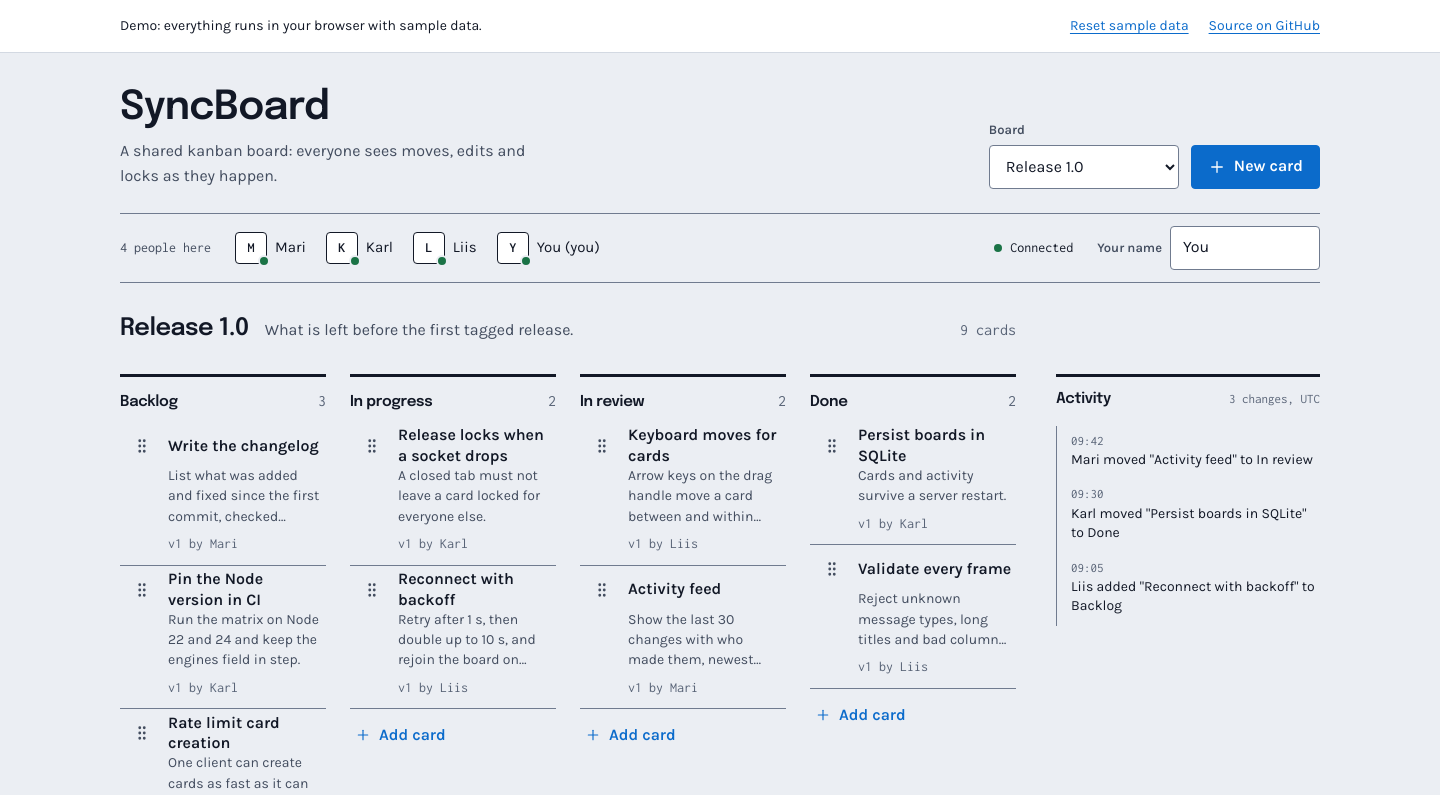
Test case: demo board › releases the lock when the dialog is cancelled
Click the button "Write the changelog".
click(245, 446)  # box [168,424,322,468]
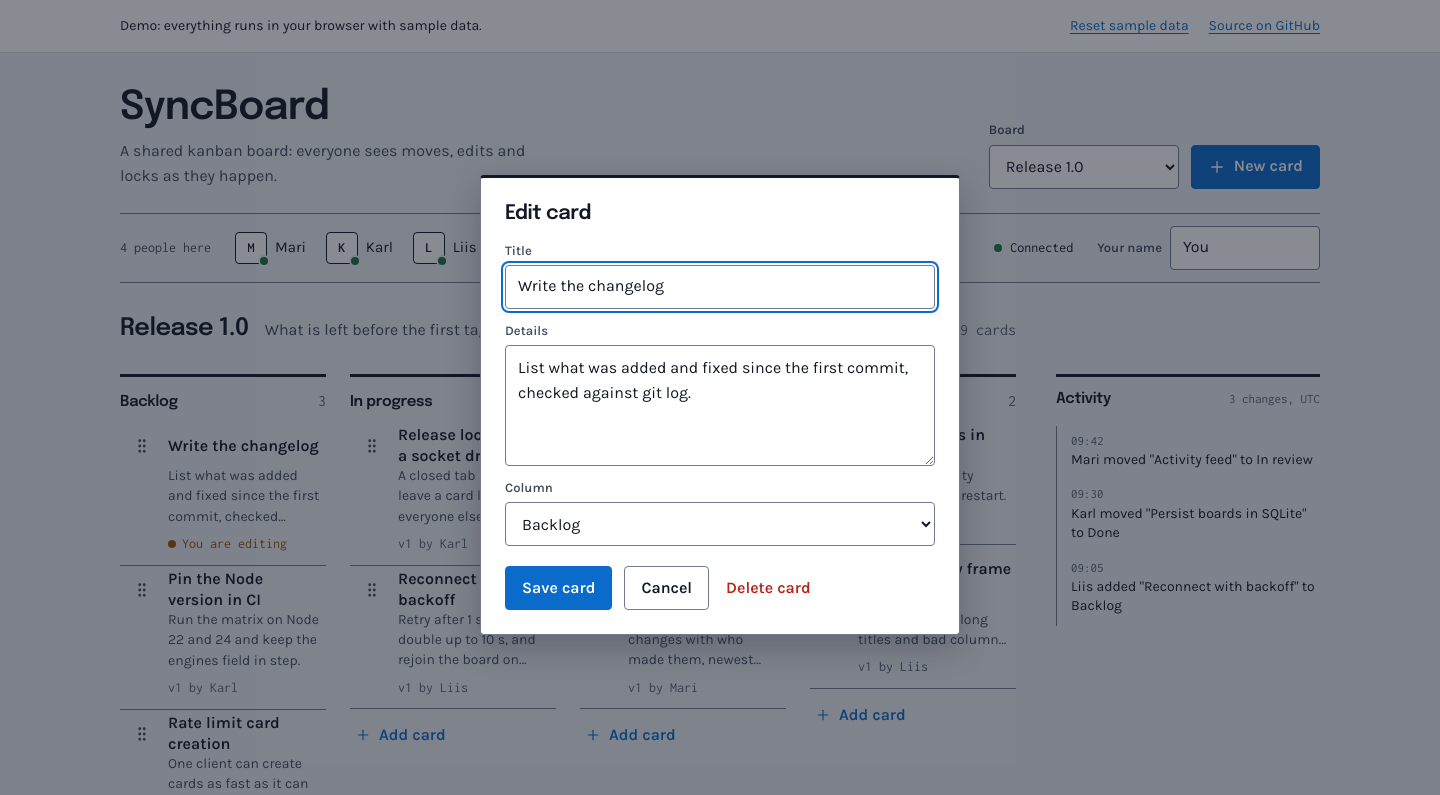
Press Escape
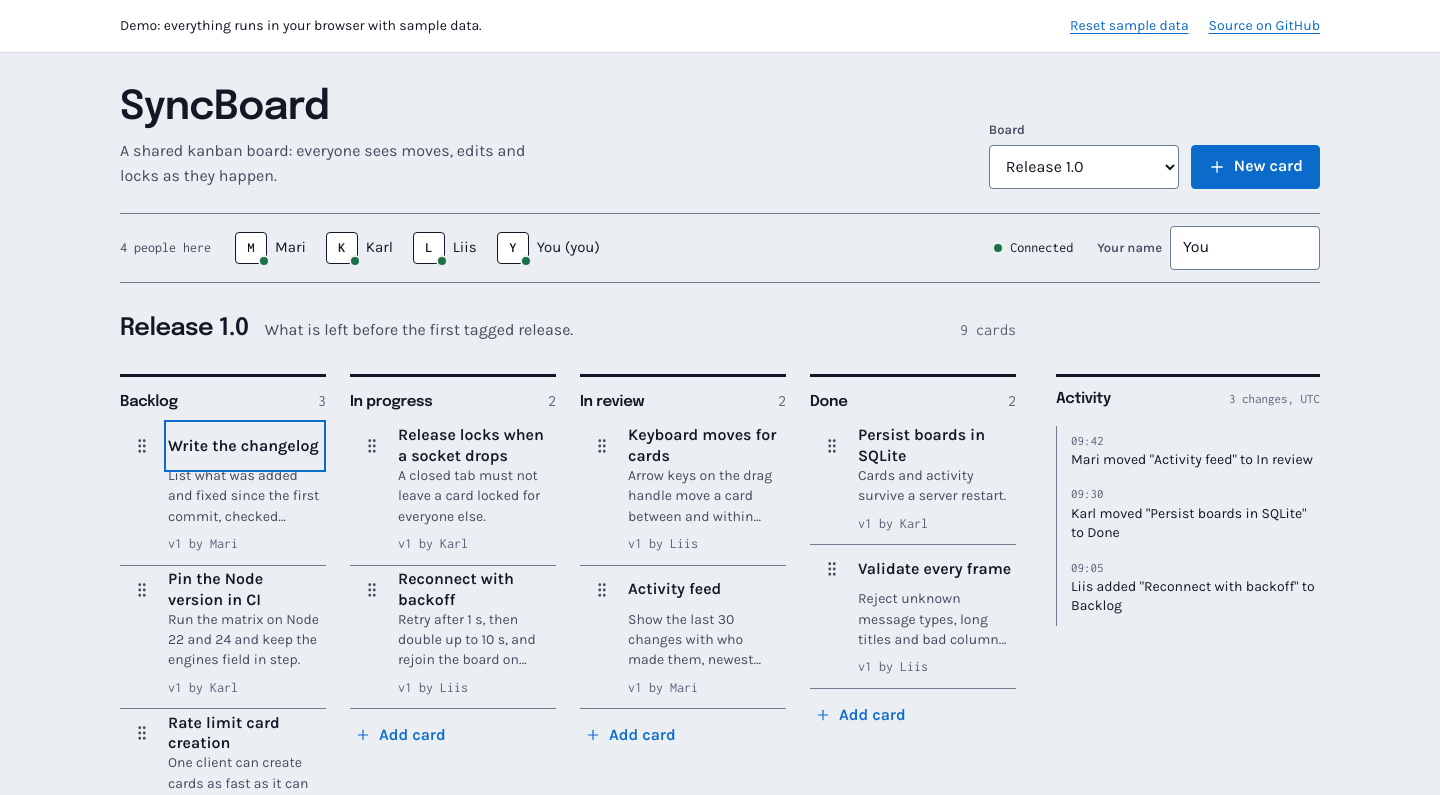
Result: the dialog is gone
Result: the text "You are editing" is gone
